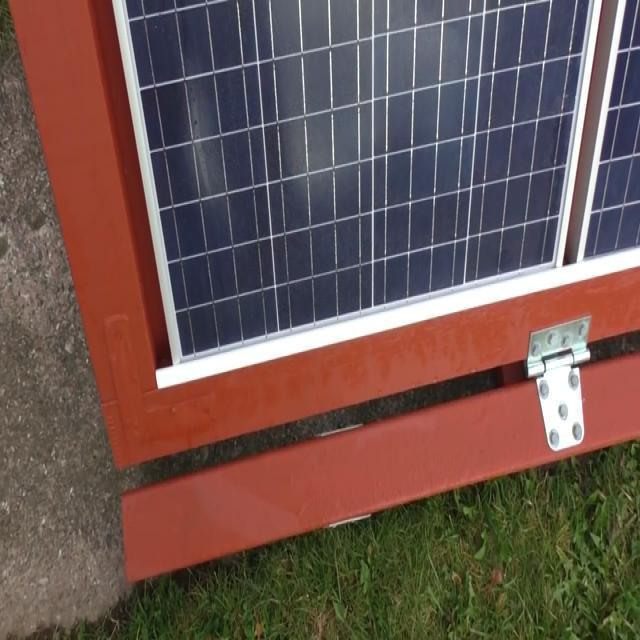Normal Solar Panel: (118, 0, 640, 380)
